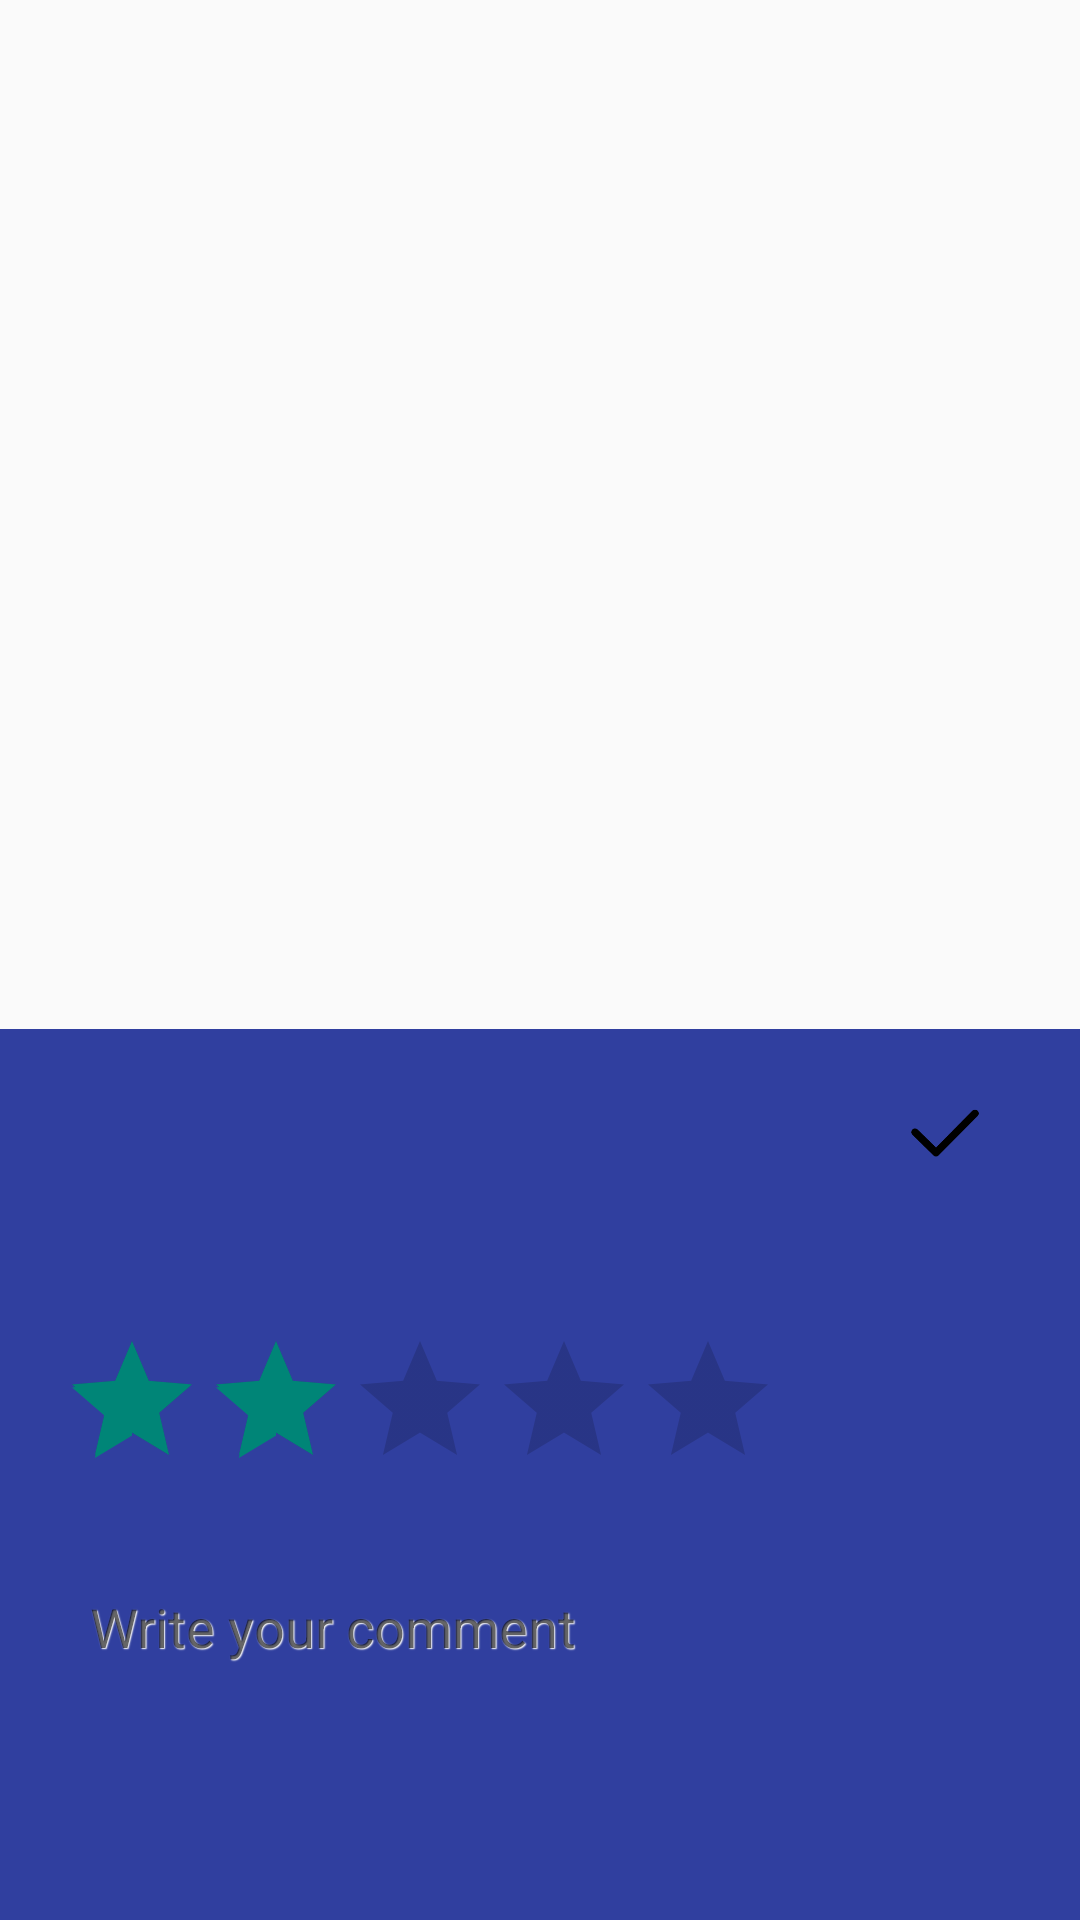

Named icons in this screenshot (1080px×1920px) and their bounding boxes, region(x1, y1, x2, y2):
select: region(911, 1110, 979, 1157)
